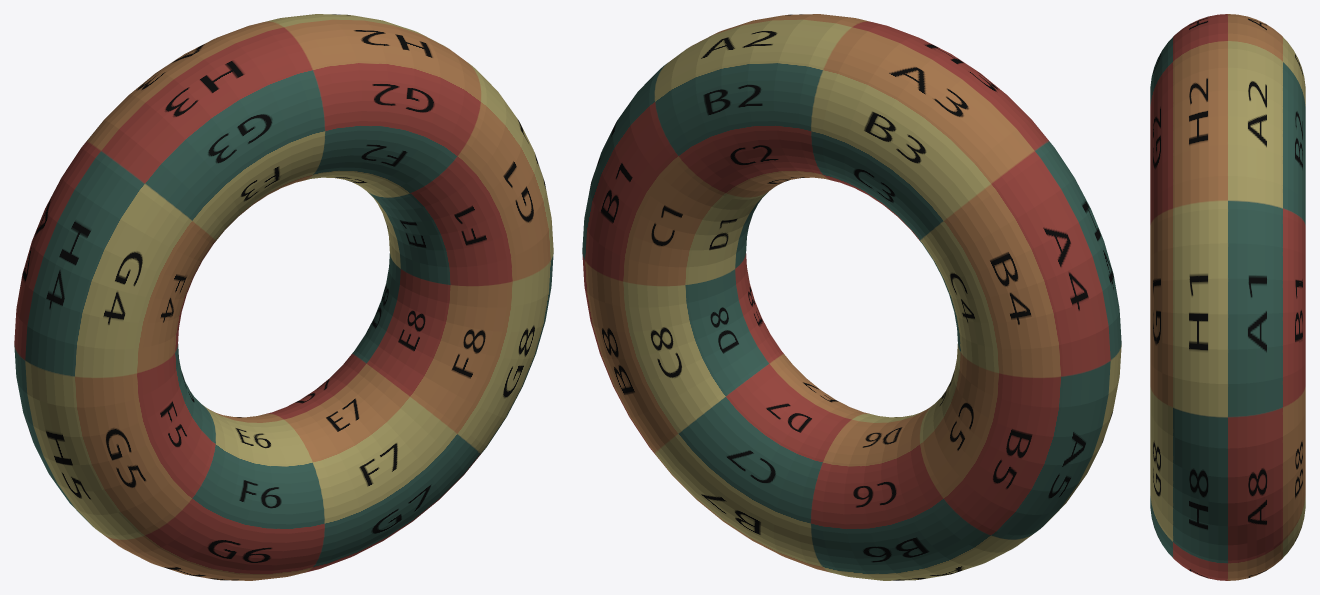
The model's file is texture_torus_R12_r18.glb.
The picture shows the model from 3 angles, left to right: view 1: azimuth 30°, elevation 25°; view 2: azimuth 150°, elevation 25°; view 3: azimuth 270°, elevation 25°; orthographic projection. The views are drawn at different scales.
Visible parts, largest first — view 1: world; view 2: world; view 3: world.
Boxes of the visible parts, x1=… form: world: x1=14, y1=14, x2=553, y2=580; world: x1=582, y1=14, x2=1121, y2=580; world: x1=1150, y1=14, x2=1305, y2=580.
Size of the model in its own units: 24.8 by 24.75 by 6.79.
1 material, 1 textured.
